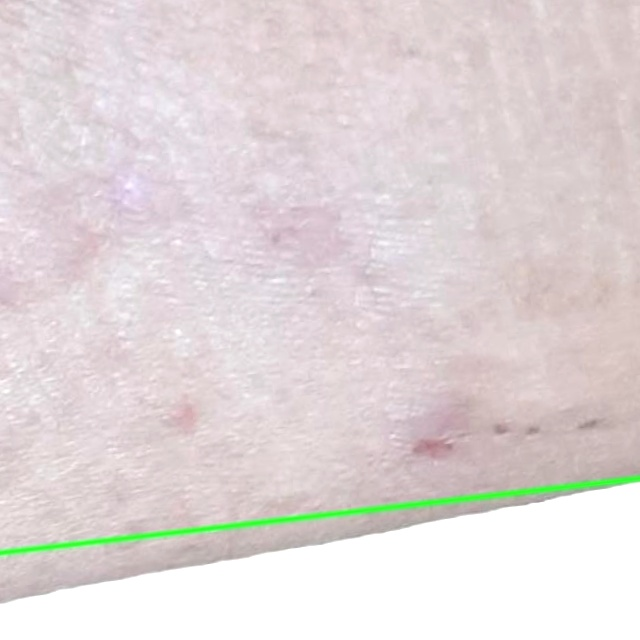Tinea Corporis: (0, 477, 639, 639)
